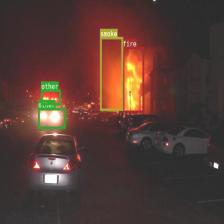fire: (122, 46, 144, 113)
smoke: (100, 36, 122, 110)
